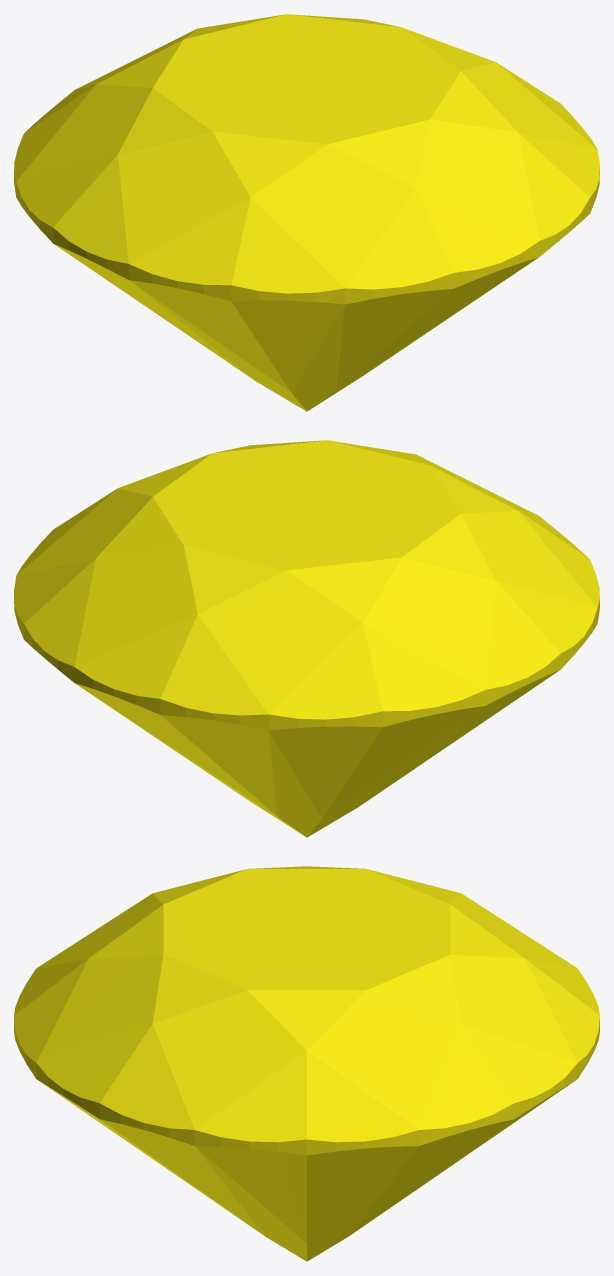
Rendered from RoundCitrine.glb.
The picture shows the model from 3 angles, top to bottom: view 1: azimuth 30°, elevation 25°; view 2: azimuth 150°, elevation 25°; view 3: azimuth 270°, elevation 25°; orthographic projection.
Visible parts, largest first — view 1: new twist dia for 3d model; view 2: new twist dia for 3d model; view 3: new twist dia for 3d model.
Part boxes in pixels (bbox=[...]): new twist dia for 3d model: bbox=[14, 14, 599, 411]; new twist dia for 3d model: bbox=[14, 440, 599, 837]; new twist dia for 3d model: bbox=[14, 866, 599, 1261].
Bounding box in the file's own units: 7.45 × 4.66 × 7.45.
